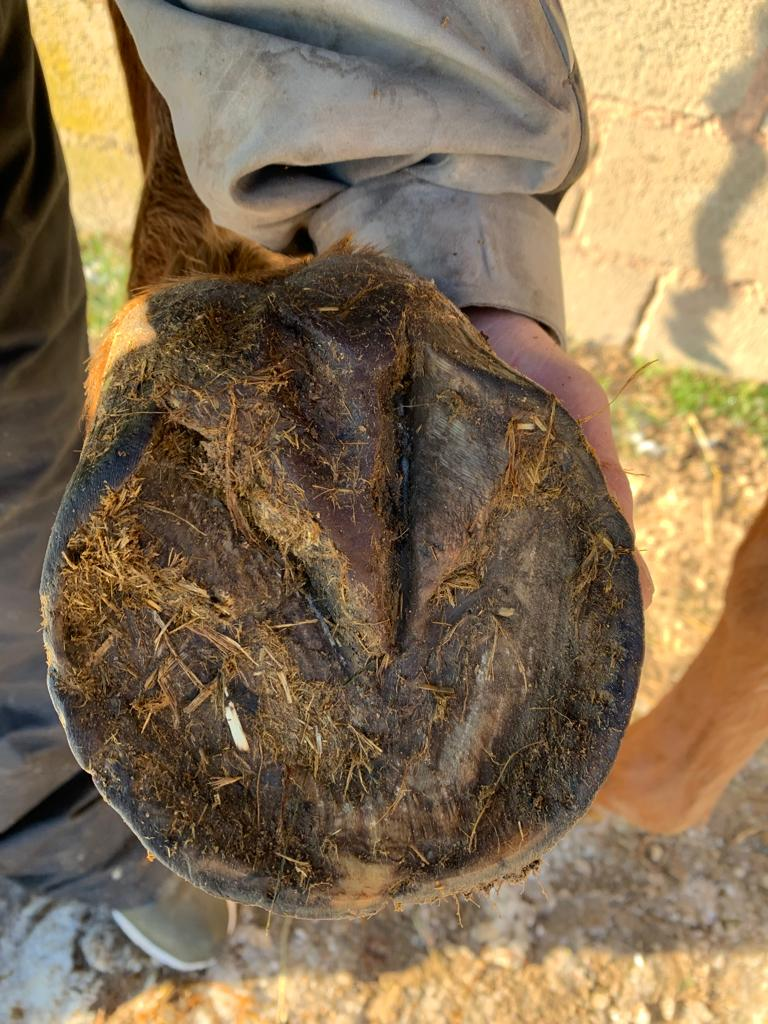horsesole: (40, 342, 642, 917)
